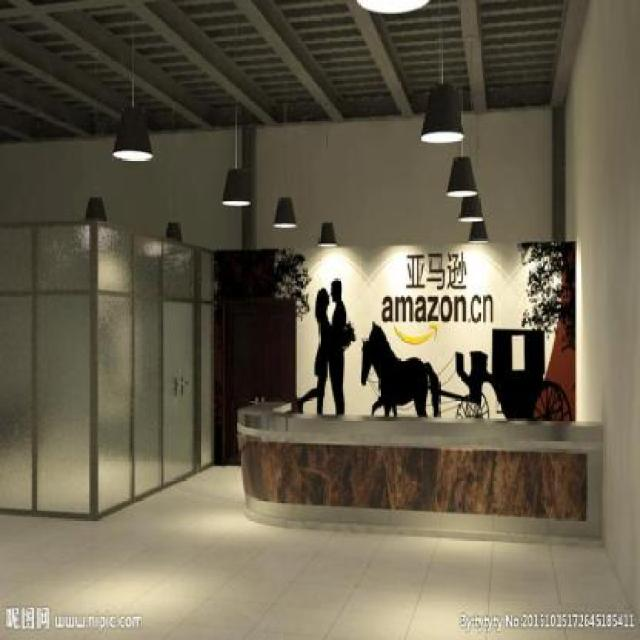frontdesk: (229, 381, 612, 554)
